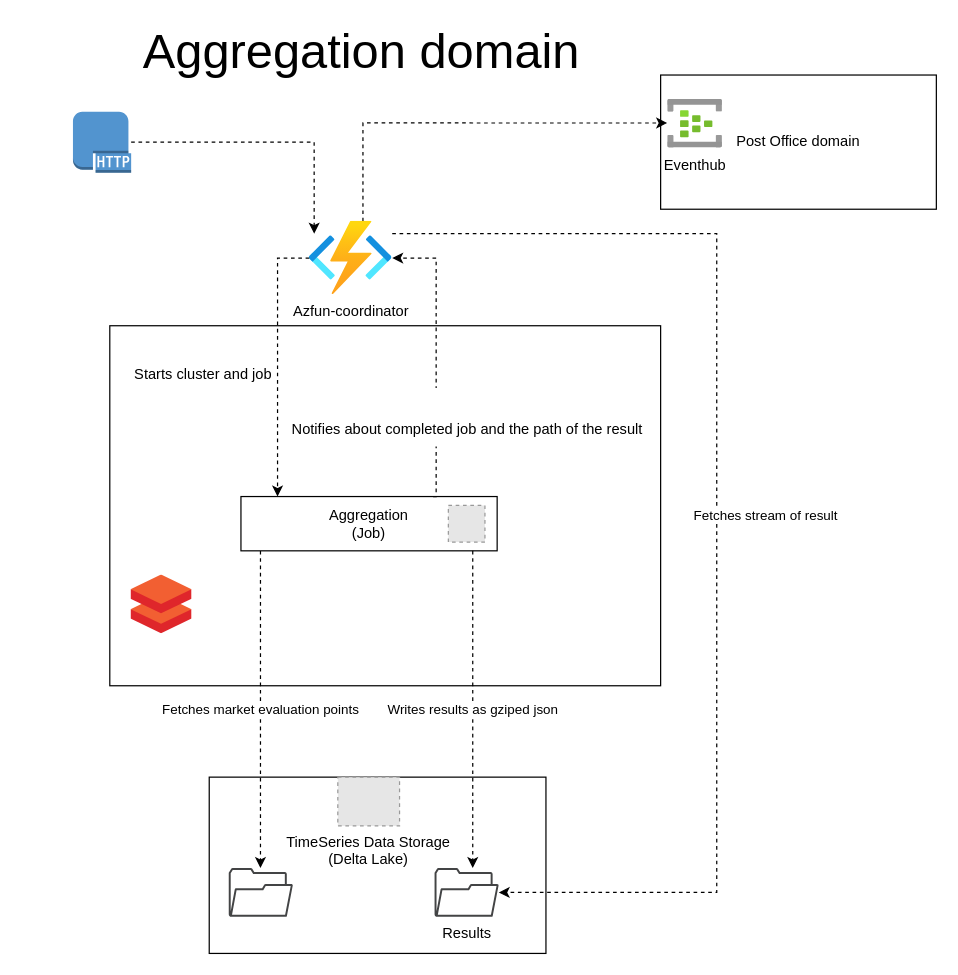
This 958x975 diagram has some shape labels left out. Grey dashed boxes stand in for pictures. The box of each missing label's shape, as (x1, y1, x2, y2) in pixels:
Databricks: (131, 575, 192, 633)
Meterdata: (228, 867, 292, 916)
Trigger job: (72, 110, 131, 173)
